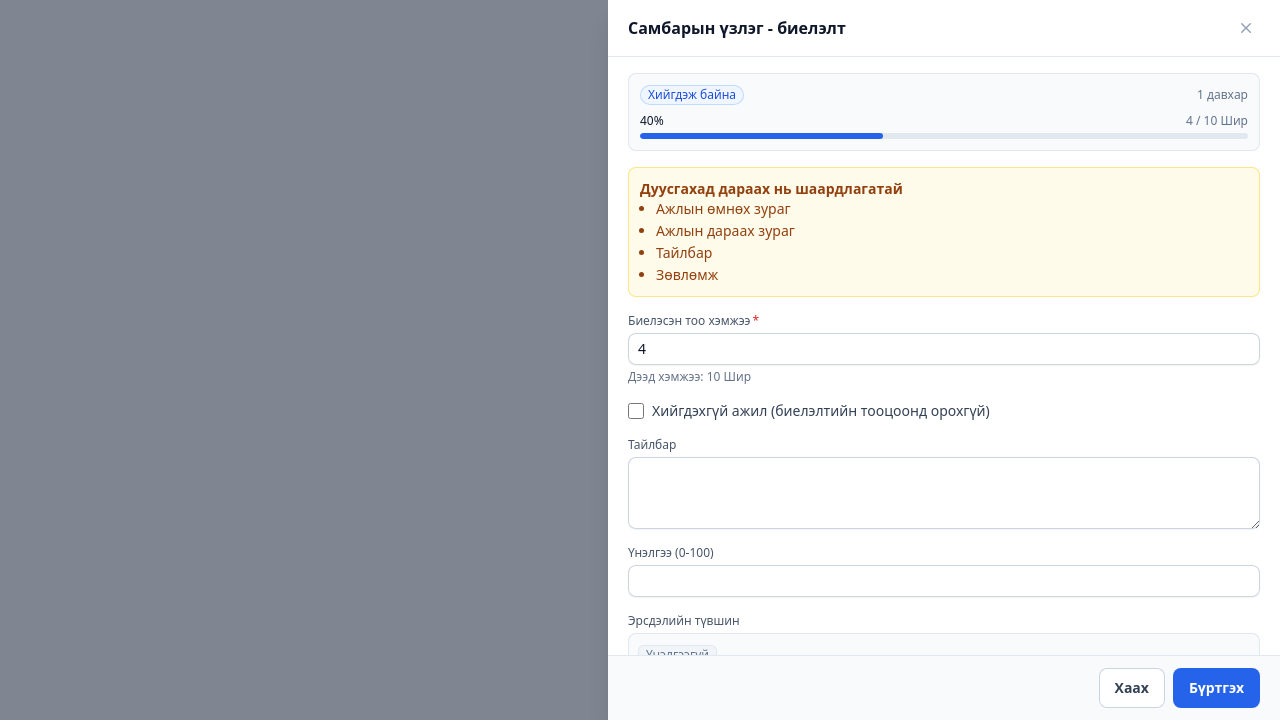
TaskProgressDrawer › keeps the typed quantity and score when a photo is removed
Replace the text in the number field labelled "Биелэсэн тоо хэмжээ*" with "9" at (944, 349), box [628,333,1260,365]
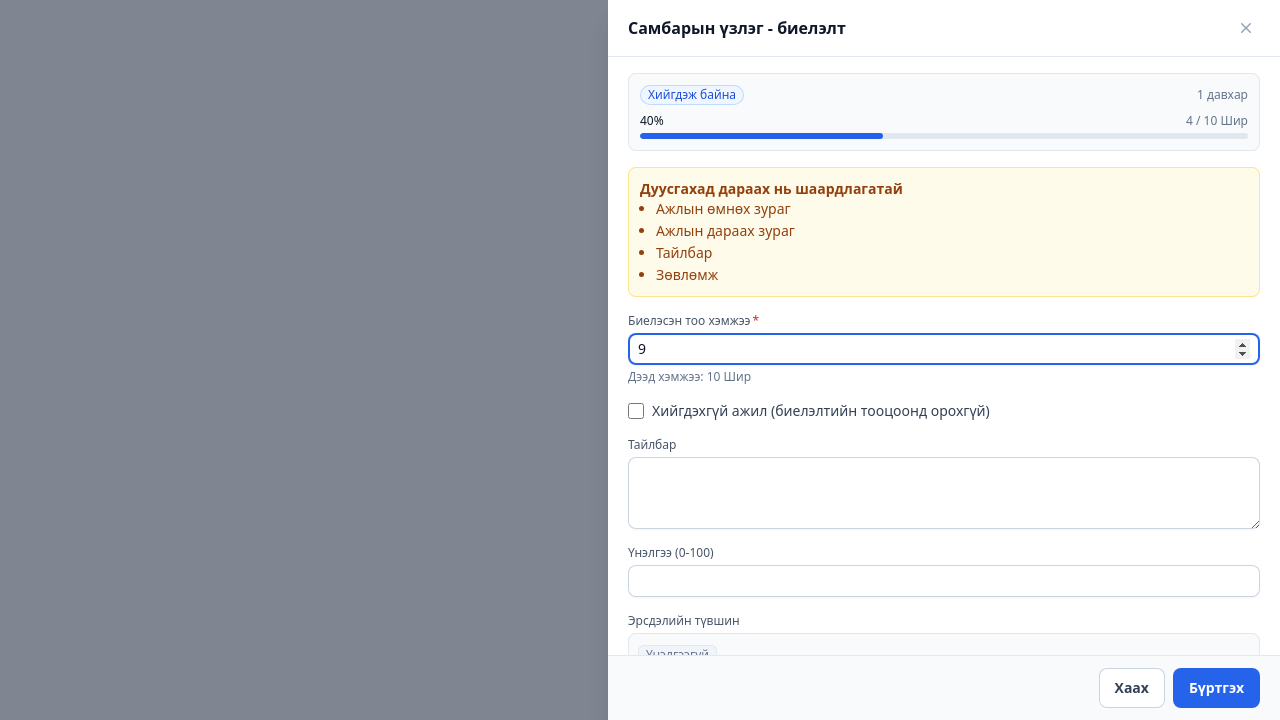
Type "72" into the number field labelled "Үнэлгээ (0-100)" at (944, 581), box [628,565,1260,597]
(page scrolled)
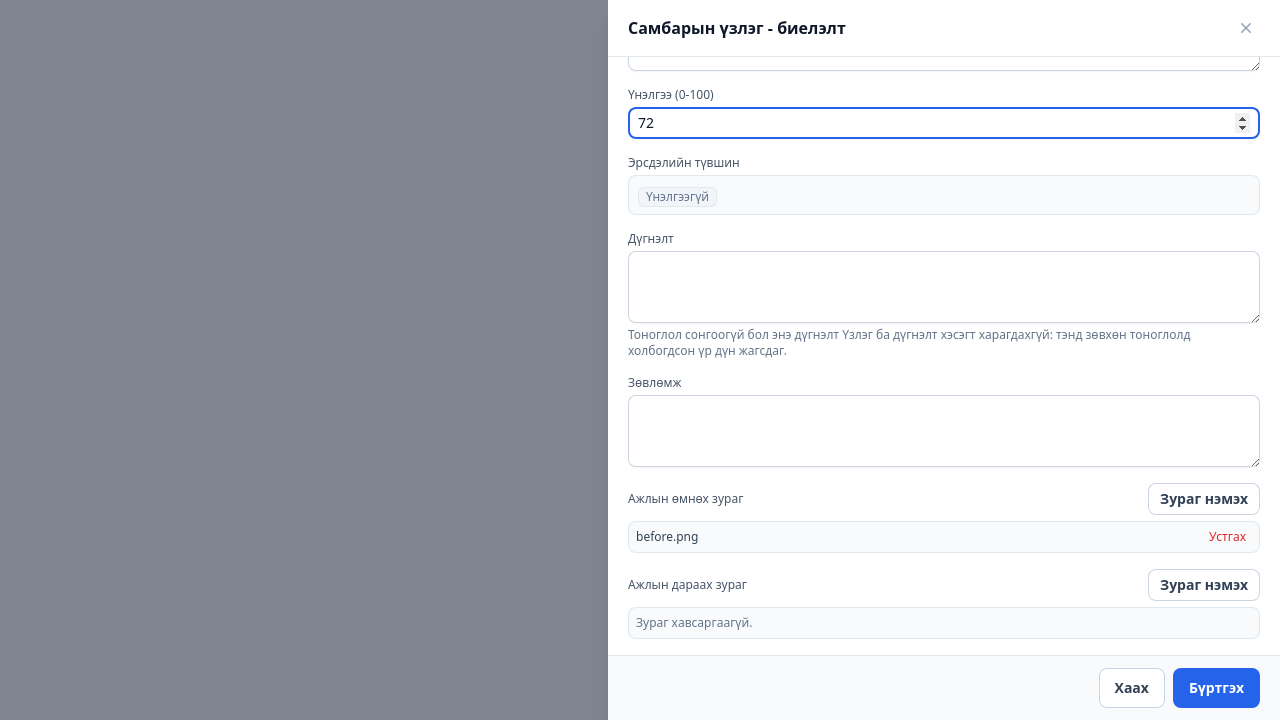
Click the button "Устгах" at (1228, 537), box [1203,527,1252,547]
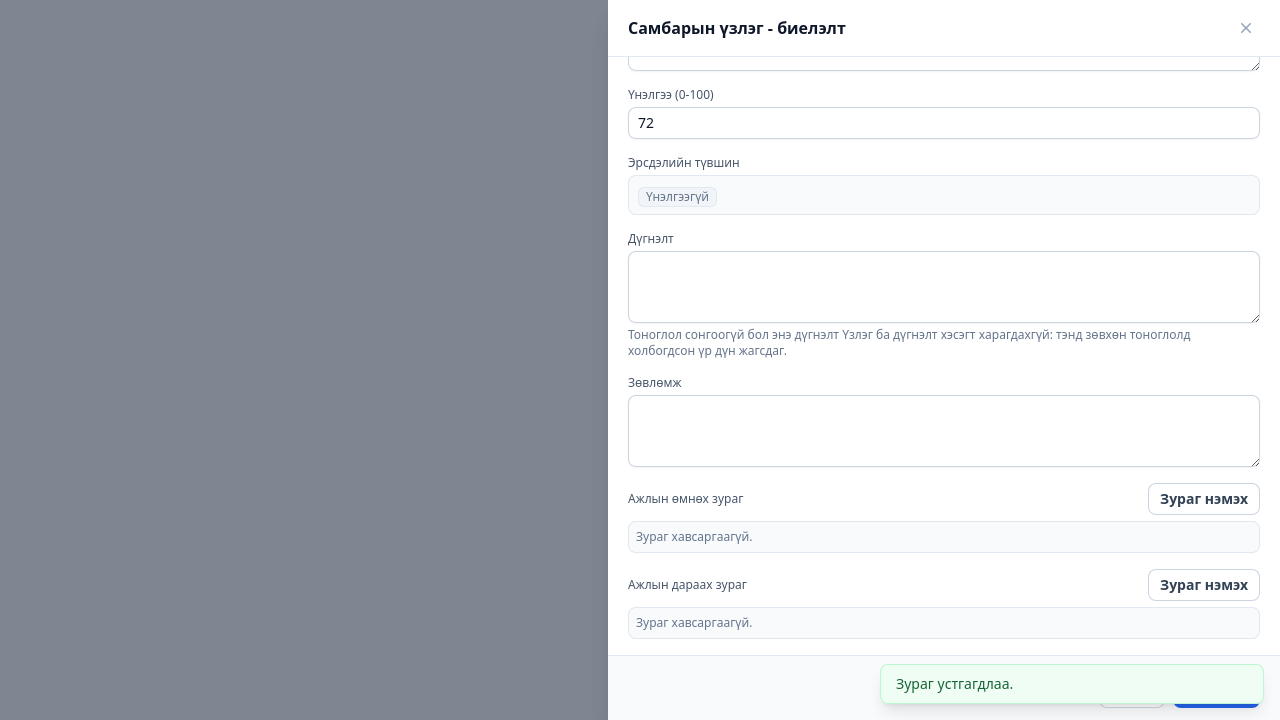
Expected: the text "before.png" is gone
